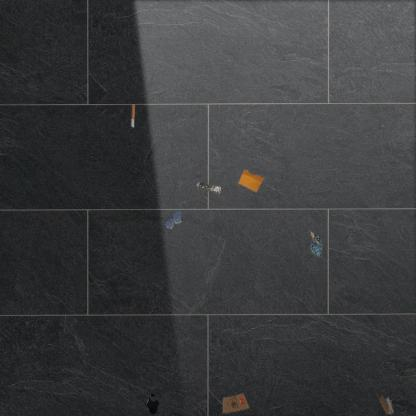dirty: (221, 392, 252, 416), (237, 168, 265, 193), (308, 229, 325, 259), (378, 394, 396, 416), (196, 181, 221, 195), (129, 103, 137, 127)
liquid: (163, 208, 183, 230), (144, 394, 160, 416)
